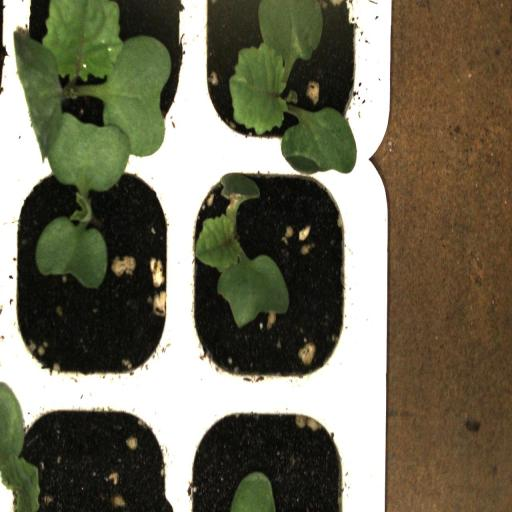seedling: (6, 149, 188, 386), (181, 162, 357, 392), (18, 0, 192, 167), (194, 0, 360, 158)
